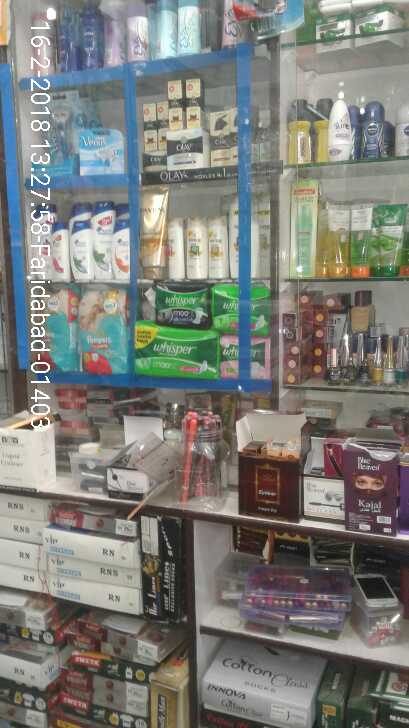venus: (34, 93, 70, 175), (79, 127, 122, 173)
